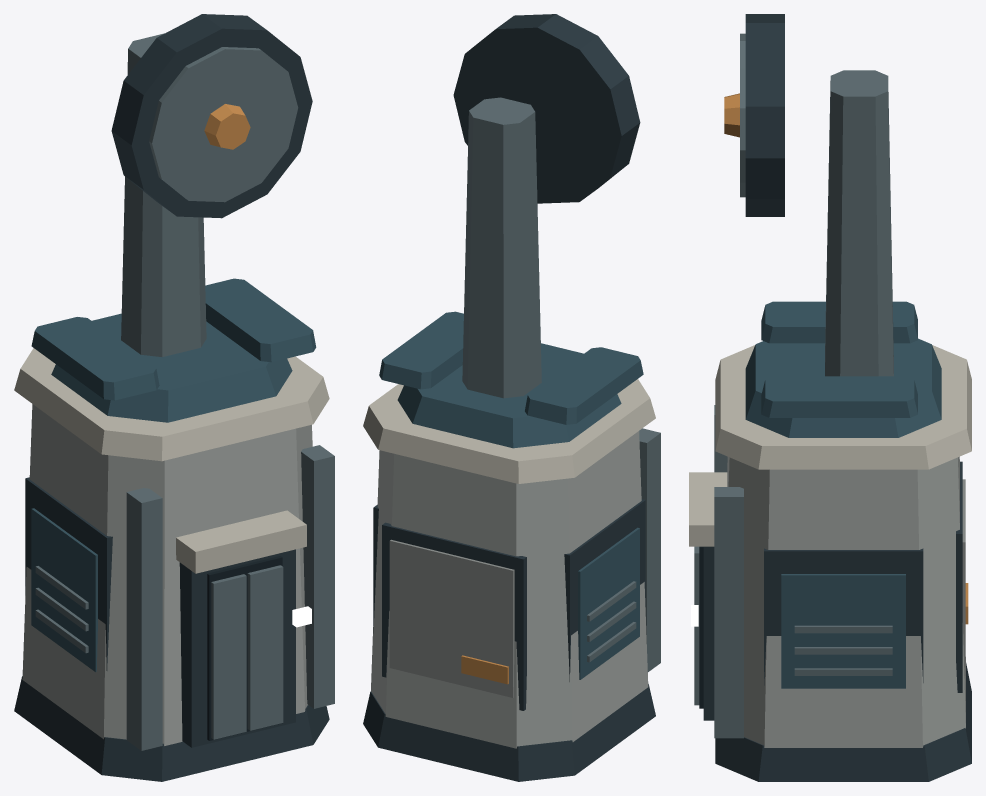
The model's file is mill_t3.glb.
3 renders of one model, left to right at view 1: azimuth 30°, elevation 25°; view 2: azimuth 150°, elevation 25°; view 3: azimuth 270°, elevation 25°, orthographic. The views are drawn at different scales.
Visible parts, largest first — view 1: body, part_rotor; view 2: body, part_rotor; view 3: body, part_rotor.
Boxes of the visible parts, x1=… form: body: x1=14, y1=33, x2=334, y2=781; part_rotor: x1=111, y1=14, x2=312, y2=218; body: x1=363, y1=97, x2=660, y2=781; part_rotor: x1=453, y1=14, x2=640, y2=203; body: x1=689, y1=70, x2=971, y2=781; part_rotor: x1=724, y1=14, x2=784, y2=216.
Bounding box in the file's own units: 1.31 × 3.97 × 1.44.
